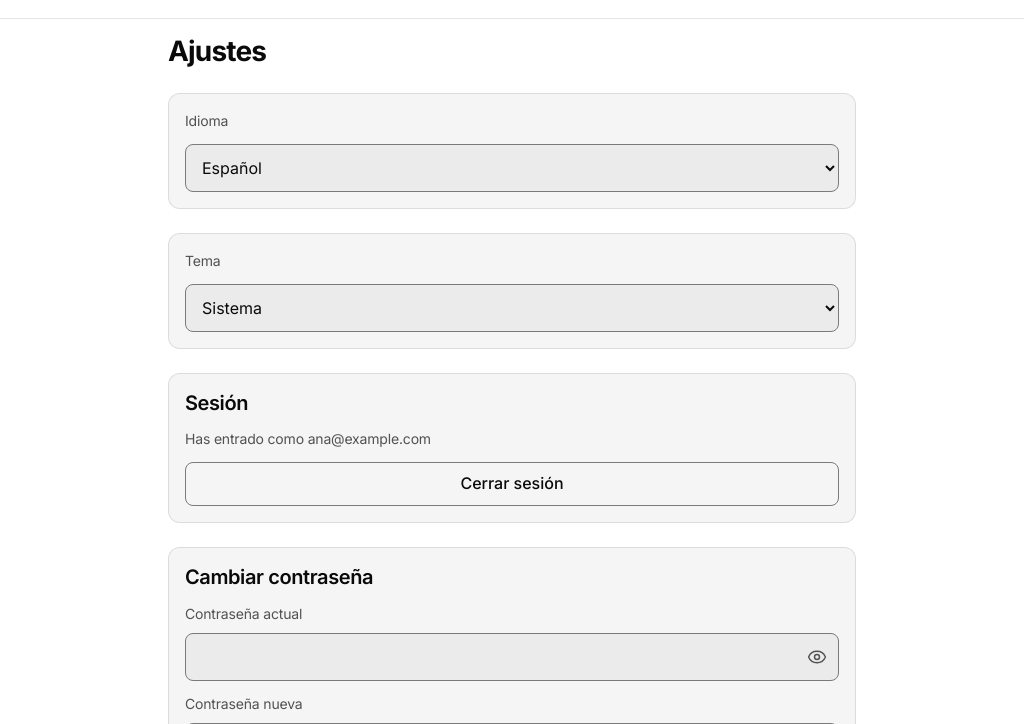
Test: cambiar la contraseña › cambia la contraseña, avisa y vacía los campos
Type "caballo-grapa-azul" into the password field labelled "Contraseña actual" at (512, 657), box [185,633,839,681]
(page scrolled)
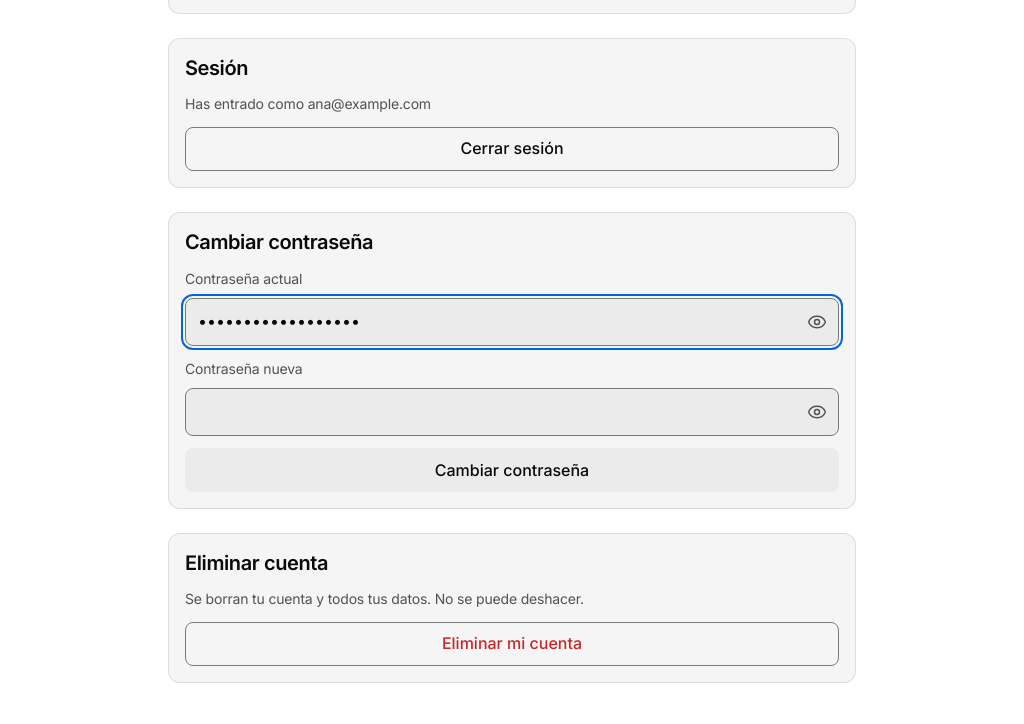
Type "nueva-clave-segura-9" into the password field labelled "Contraseña nueva" at (512, 412), box [185,388,839,436]
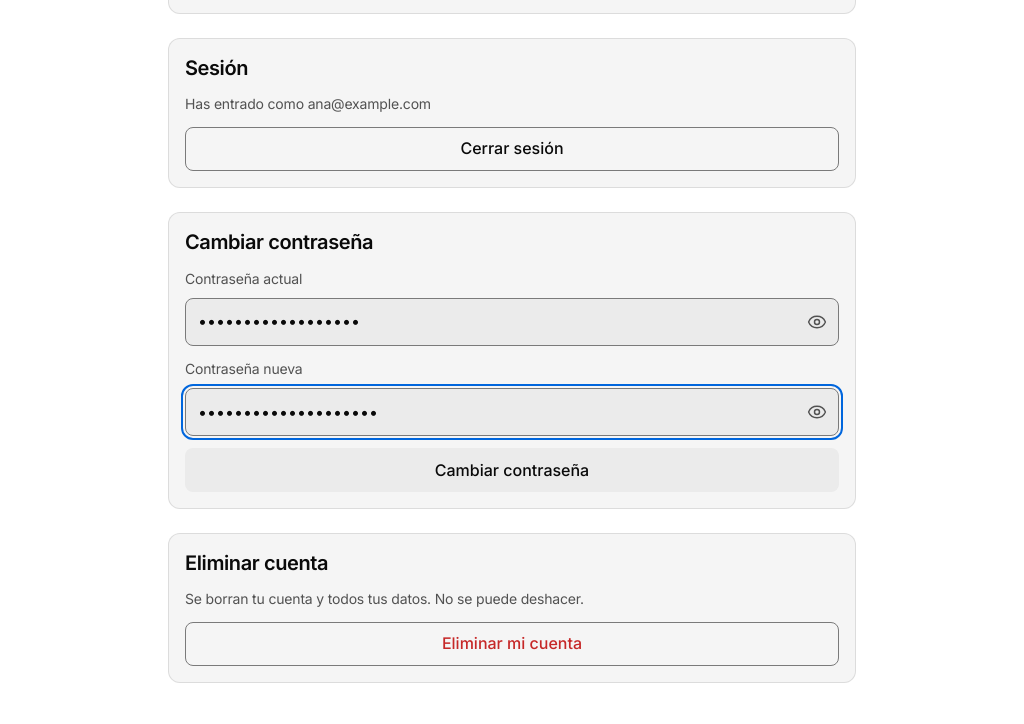
Click the button "Cambiar contraseña" at (512, 470), box [185,448,839,492]
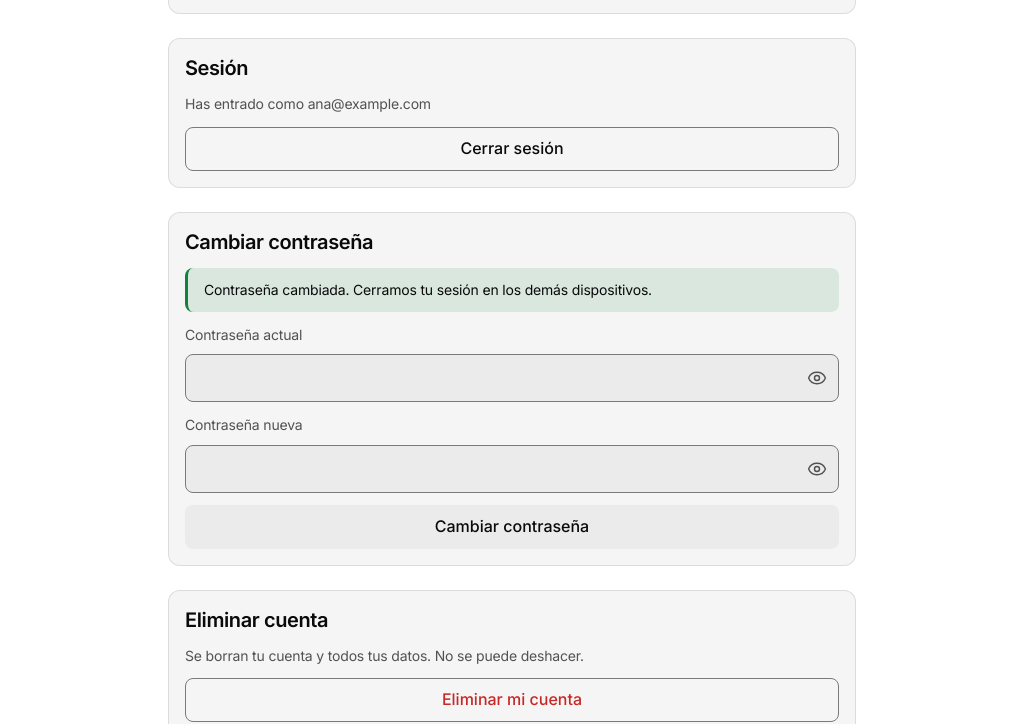
Check: the message shows "Contraseña cambiada", box [204,281,652,298]
Check: the password field labelled "Contraseña actual" is empty, box [185,354,839,402]
